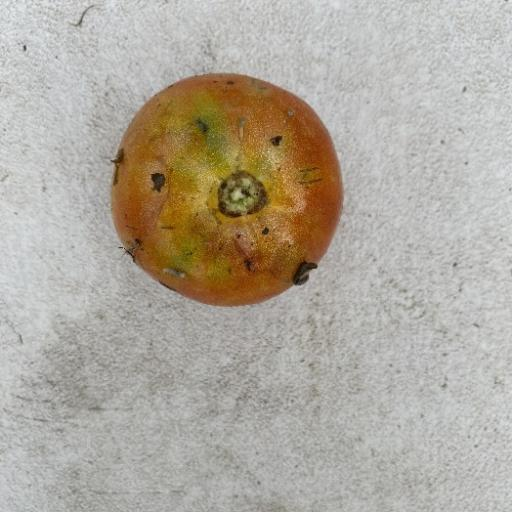Waste: (107, 70, 345, 308)
